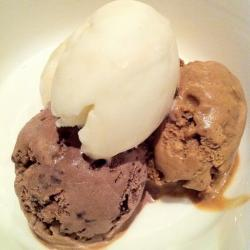icecream: (44, 2, 176, 159), (10, 115, 154, 247), (153, 63, 243, 195)
